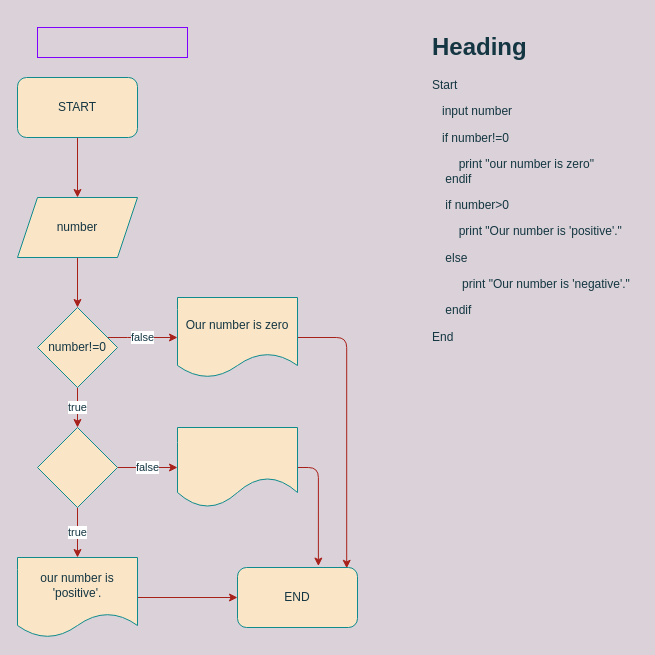
Image size: 655x655. Some labels were removed from this diagram. The shapes that lost their labels are listed below. From the top down, each one's centre as x and y in pixels, then its label:
At [112,42]: "Flowchart".
At [77,467]: "number>0".
At [237,467]: "Our number is 'negative'.".
